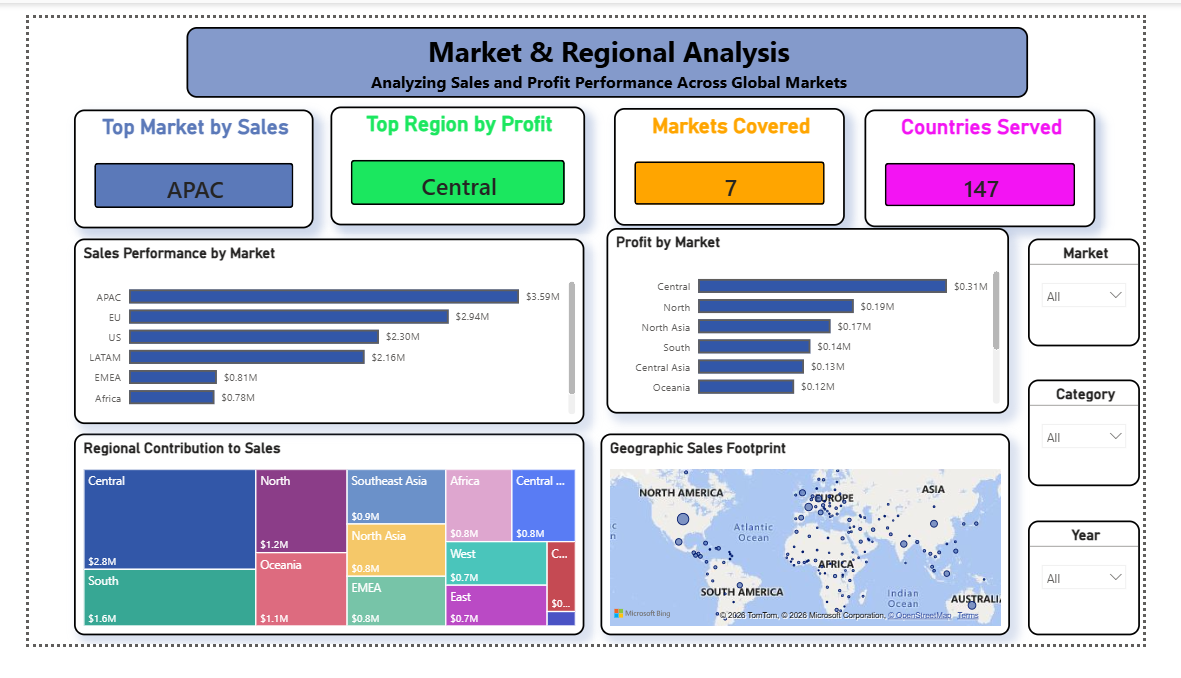

What the dashboard file says about the page in this screenshot:
{"tool":"powerbi","page":{"name":"Geographic Performance","canvas":[1280,720],"ordinal":1},"visuals":[{"type":"cardVisual","title":"Top Market by Sales","fields":{"Data":["Measures (2).Top Market"]},"box":[52.5,105,275.2,136.8],"z":0},{"type":"cardVisual","title":"Top Region by Profit","fields":{"Data":["Measures (2).Top Region"]},"box":[346.8,101.8,292.7,136.8],"z":1000},{"type":"cardVisual","title":"Markets Covered","fields":{"Data":["Measures (2).Markets Count"]},"box":[672.8,103.4,265.6,135.2],"z":2000},{"type":"cardVisual","title":"Countries Served","fields":{"Data":["Measures (2).Countries Count"]},"box":[960.7,105,265.6,135.2],"z":3000},{"type":"treemap","title":"Regional Contribution to Sales","fields":{"Group":["Global_Superstore.Region"],"Values":["Measures (2).Total Sales"]},"box":[52.5,477.2,586.9,232.2],"z":5000},{"type":"clusteredBarChart","title":"Sales Performance by Market","fields":{"Category":["Global_Superstore.Market"],"Y":["Measures (2).Total Sales"]},"box":[52.5,252.9,586.9,213.1],"z":7000},{"type":"clusteredBarChart","title":"Profit by Market","fields":{"Category":["Global_Superstore.Region"],"Y":["Measures (2).Total Profit"]},"box":[664.5,241.9,462.9,213.1],"z":8000},{"type":"textbox","title":"Market & Regional Analysis","box":[181.3,11.1,967.1,81.1],"z":9000},{"type":"map","title":"Geographic Sales Footprint","fields":{"Category":["Global_Superstore.Country"],"Size":["Measures (2).Total Sales"]},"box":[656.9,477.2,470.8,232.2],"z":9001},{"type":"slicer","title":"Market","fields":{"Values":["Global_Superstore.Market"]},"box":[1148.4,252.9,128.8,124.1],"z":9002},{"type":"slicer","title":"Category","fields":{"Values":["Global_Superstore.Category"]},"box":[1148.4,415.1,128.8,122.5],"z":9003},{"type":"slicer","title":"Year","fields":{"Values":["Global_Superstore.Order Year"]},"box":[1148.4,577.4,128.8,132],"z":9004}]}

Visuals, with their boxes in screenshot pixels (x1, y1, x2, y2), scaled from the page's 1280x720 canvas onto the 1181x678 screenshot:
"Top Market by Sales" cardVisual: {"x1": 48, "y1": 99, "x2": 302, "y2": 228}
"Top Region by Profit" cardVisual: {"x1": 320, "y1": 96, "x2": 590, "y2": 225}
"Markets Covered" cardVisual: {"x1": 621, "y1": 97, "x2": 866, "y2": 225}
"Countries Served" cardVisual: {"x1": 886, "y1": 99, "x2": 1131, "y2": 226}
"Regional Contribution to Sales" treemap: {"x1": 48, "y1": 449, "x2": 590, "y2": 668}
"Sales Performance by Market" clusteredBarChart: {"x1": 48, "y1": 238, "x2": 590, "y2": 439}
"Profit by Market" clusteredBarChart: {"x1": 613, "y1": 228, "x2": 1040, "y2": 428}
"Market & Regional Analysis" textbox: {"x1": 167, "y1": 10, "x2": 1060, "y2": 87}
"Geographic Sales Footprint" map: {"x1": 606, "y1": 449, "x2": 1040, "y2": 668}
"Market" slicer: {"x1": 1060, "y1": 238, "x2": 1178, "y2": 355}
"Category" slicer: {"x1": 1060, "y1": 391, "x2": 1178, "y2": 506}
"Year" slicer: {"x1": 1060, "y1": 544, "x2": 1178, "y2": 668}
